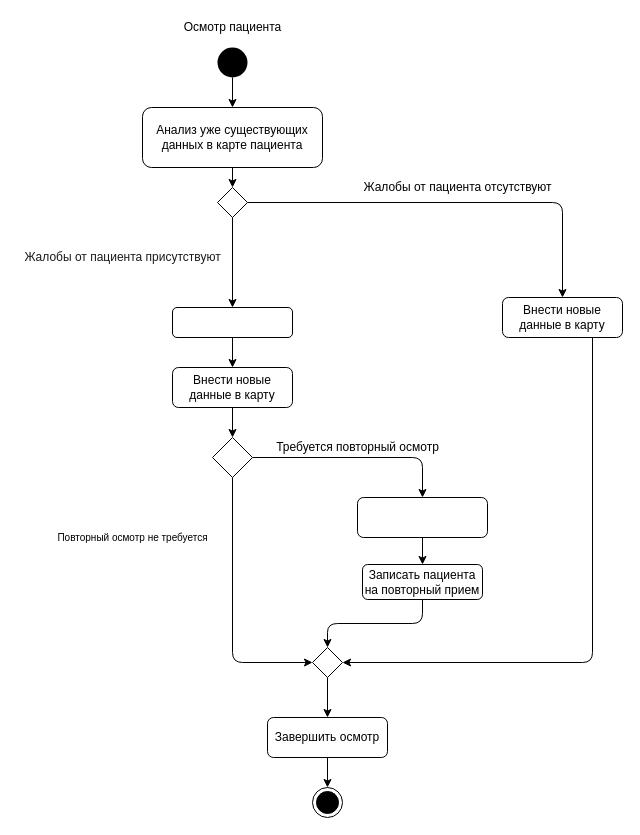
Image size: 640x835. Some labels were removed from this diagram. The shapes that lost their labels are listed below. From the top down, each one's box as (x1, y1, x2, y2) in pixels, then its label:
(172, 306, 292, 338): Поставить диагноз
(356, 496, 488, 538): Записать пациента к специалисту на сдачу анализов
